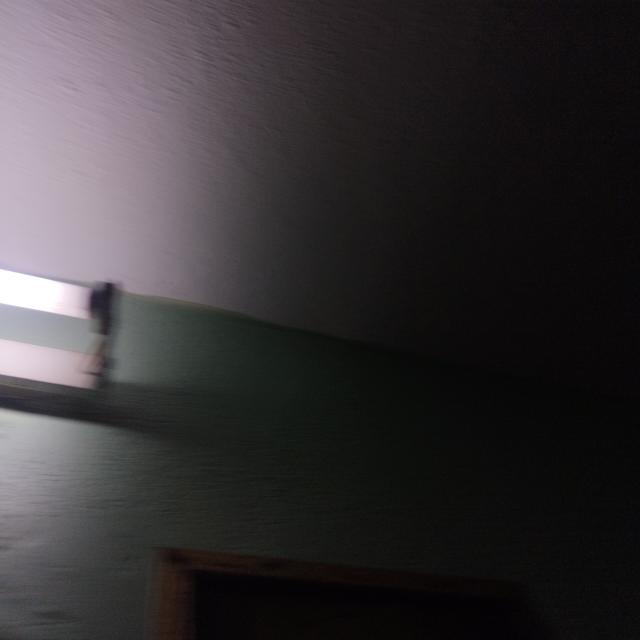tubelight_on: (0, 250, 122, 417)
